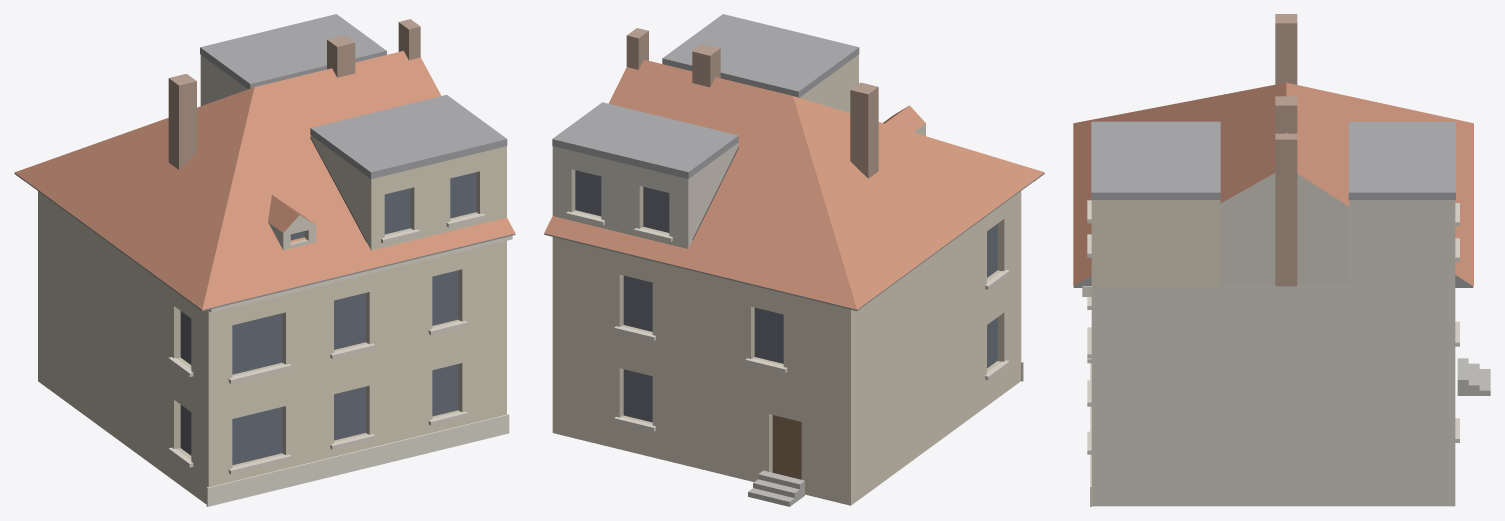
3 views of the same model, side by side, from view 1: azimuth 30°, elevation 25°; view 2: azimuth 150°, elevation 25°; view 3: azimuth 270°, elevation 25° (orthographic). The views are drawn at different scales.
Parts seen in each view (by area): view 1: CP_1899_Masonry, CP_1899_Roof, CP_1899_Vol_mansard_front_Masonry, CP_1899_WingRoof_vol_mansard_front, CP_1899_WingRoof_vol_mansard_rear, CP_1899_Cornice_main_plinth_0, CP_1899_Chimney_0, CP_1899_Dormer_d1, CP_1899_Cornice_main_eave_0, CP_1899_Vol_mansard_rear_Masonry, CP_1899_Chimney_1, CP_1899_Chimney_2 (+1 smaller); view 2: CP_1899_Masonry, CP_1899_Roof, CP_1899_Vol_mansard_rear_Masonry, CP_1899_WingRoof_vol_mansard_front, CP_1899_WingRoof_vol_mansard_rear, CP_1899_Chimney_0, CP_1899_Vol_mansard_front_Masonry, CP_1899_Chimney_1, CP_1899_Chimney_2, CP_1899_Dormer_d1, CP_1899_Roof_EaveClosure_0; view 3: CP_1899_Masonry, CP_1899_Roof, CP_1899_Vol_mansard_front_Masonry, CP_1899_AtticClosure, CP_1899_WingRoof_vol_mansard_front, CP_1899_Vol_mansard_rear_Masonry, CP_1899_WingRoof_vol_mansard_rear, CP_1899_Chimney_2, CP_1899_Chimney_0, CP_1899_Chimney_1.
Boxes of the visible parts, x1,y1,x2,y2 form: CP_1899_Masonry: (38,191,506,504); CP_1899_Roof: (14,51,515,309); CP_1899_Vol_mansard_front_Masonry: (311,135,506,250); CP_1899_WingRoof_vol_mansard_front: (310,94,507,179); CP_1899_WingRoof_vol_mansard_rear: (200,14,386,89); CP_1899_Cornice_main_plinth_0: (206,414,509,506); CP_1899_Chimney_0: (168,73,196,169); CP_1899_Dormer_d1: (268,195,315,250); CP_1899_Cornice_main_eave_0: (208,235,512,312); CP_1899_Vol_mansard_rear_Masonry: (200,55,247,105); CP_1899_Chimney_1: (327,35,355,77); CP_1899_Chimney_2: (398,19,420,60); CP_1899_Masonry: (552,191,1021,505); CP_1899_Roof: (544,59,1044,309); CP_1899_Vol_mansard_rear_Masonry: (552,143,738,248); CP_1899_WingRoof_vol_mansard_front: (662,14,859,97); CP_1899_WingRoof_vol_mansard_rear: (552,102,738,178); CP_1899_Chimney_0: (850,82,878,178); CP_1899_Vol_mansard_front_Masonry: (800,54,858,112); CP_1899_Chimney_1: (692,44,720,87); CP_1899_Chimney_2: (626,28,648,69); CP_1899_Dormer_d1: (883,105,925,135); CP_1899_Roof_EaveClosure_0: (544,233,867,310); CP_1899_Masonry: (1091,286,1455,506); CP_1899_Roof: (1073,82,1473,285); CP_1899_Vol_mansard_front_Masonry: (1091,200,1220,286); CP_1899_AtticClosure: (1220,173,1348,285); CP_1899_WingRoof_vol_mansard_front: (1091,121,1220,199); CP_1899_Vol_mansard_rear_Masonry: (1349,200,1455,286); CP_1899_WingRoof_vol_mansard_rear: (1348,121,1455,199); CP_1899_Chimney_2: (1275,133,1297,286); CP_1899_Chimney_0: (1275,14,1297,84); CP_1899_Chimney_1: (1275,96,1297,133).
Bounding box in the file's own units: 10.55 × 11 × 11.36.
